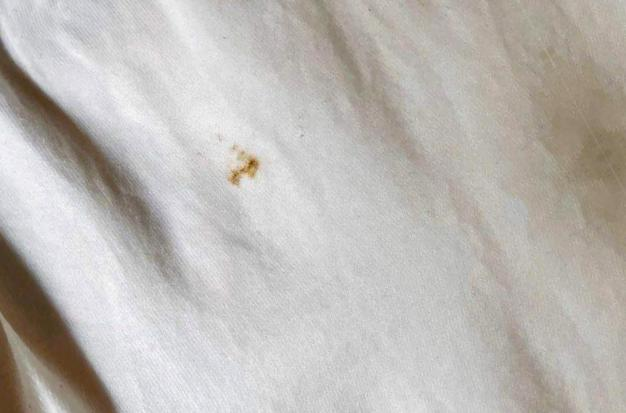stain: (218, 132, 265, 190)
